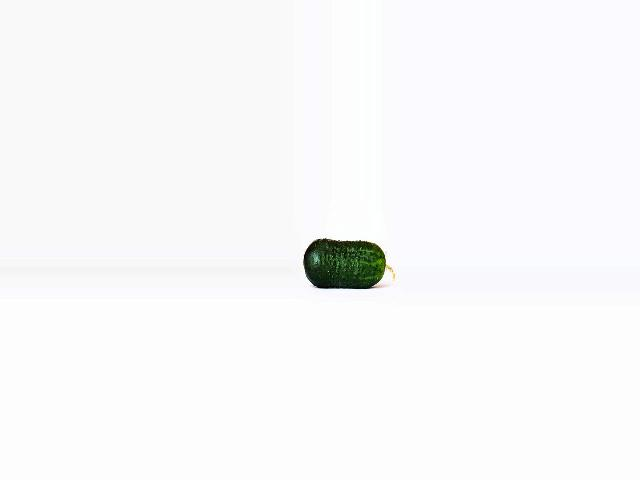cucumber: (304, 238, 395, 289)
